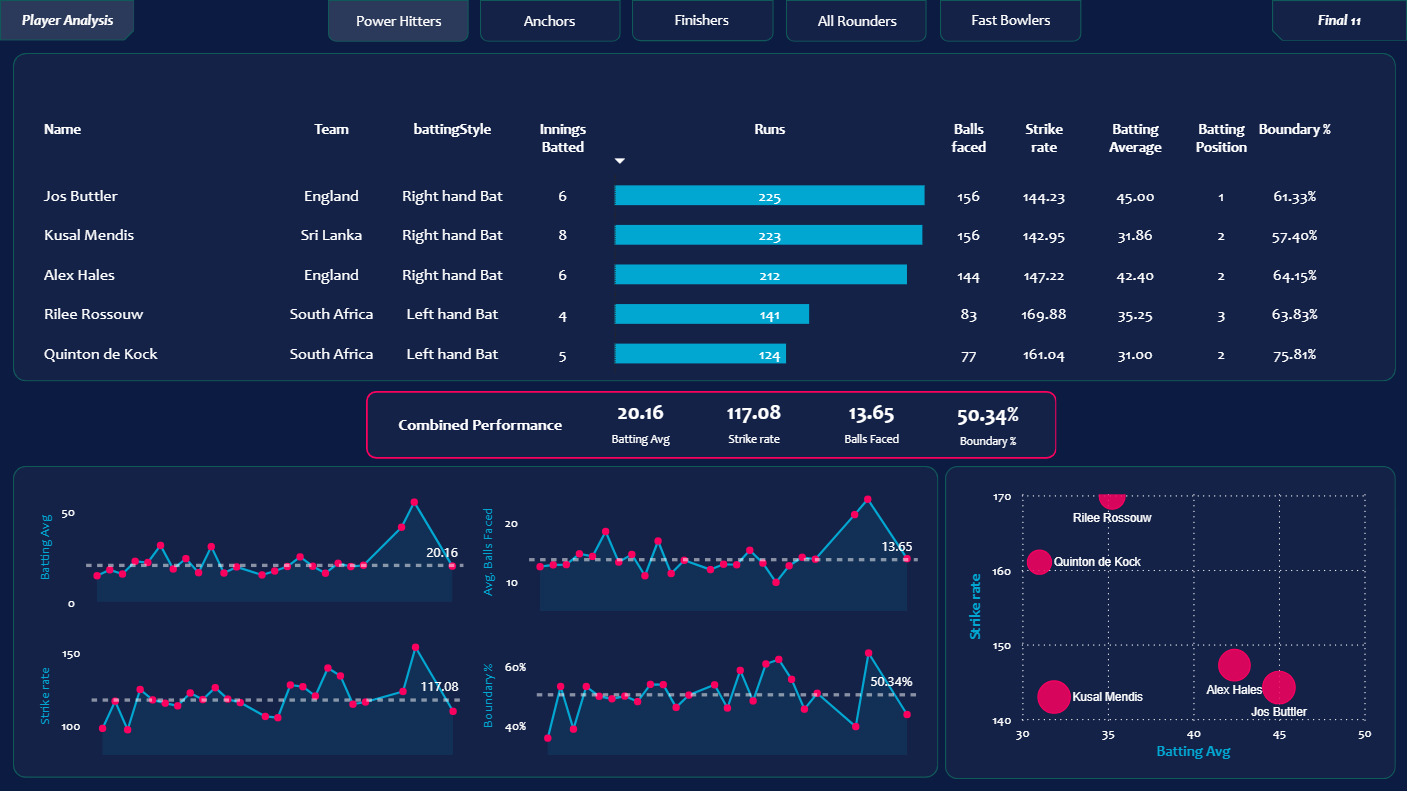

The page's visual inventory and layout, read from the dashboard file:
{"tool":"powerbi","page":{"name":"Power Hitters / Openers","canvas":[1280,720],"ordinal":0},"visuals":[{"type":"tableEx","fields":{"Values":["dim_players.name","dim_players.team","dim_players.battingStyle","Key_Measures.Total Innings Batted","Key_Measures.Total Runs","Key_Measures.Total balls Faced","Key_Measures.Strike Rate","Key_Measures.Batting Avg","Key_Measures.Batting Position","Key_Measures.Boundary %"]},"box":[19.7,60.6,1240.9,166.7],"z":0},{"type":"scatterChart","fields":{"Category":["dim_players.name"],"Size":["Key_Measures.Total Runs"],"X":["Key_Measures.Batting Avg"],"Y":["Key_Measures.Strike Rate"],"Series":["dim_players.name"]},"box":[33.3,321.7,698.3,360],"z":1000},{"type":"textbox","box":[56.1,263.6,325.8,28.8],"z":2000},{"type":"textbox","box":[20,13.3,325,30],"z":3000},{"type":"card","fields":{"Values":["Key_Measures.Batting Avg"]},"box":[756.7,321.7,226.7,136.7],"z":4000},{"type":"card","fields":{"Values":["Key_Measures.Strike Rate"]},"box":[1016.7,321.7,226.7,136.7],"z":5000},{"type":"card","fields":{"Values":["Key_Measures.Average Balls Faced"]},"box":[1016.7,501.7,226.7,136.7],"z":6000},{"type":"card","fields":{"Values":["Key_Measures.Boundary %"]},"box":[776.7,510,186.7,128.3],"z":7000},{"type":"textbox","box":[776.7,291.7,325,30],"z":8000},{"type":"slicer","fields":{"Values":["dim_match_summary.Stage"]},"box":[1127.5,98.8,133.8,88.8],"z":9000}]}

Visuals, with their boxes in screenshot pixels (x1, y1, x2, y2), scaled from the page's 1280x720 canvas onto the 1407x791 screenshot:
tableEx - dim_players.name x dim_players.team: (22, 67, 1386, 250)
scatterChart - dim_players.name x Key_Measures.Total Runs: (37, 353, 804, 749)
textbox: (62, 290, 420, 321)
textbox: (22, 15, 379, 48)
card - Key_Measures.Batting Avg: (832, 353, 1081, 504)
card - Key_Measures.Strike Rate: (1118, 353, 1367, 504)
card - Key_Measures.Average Balls Faced: (1118, 551, 1367, 701)
card - Key_Measures.Boundary %: (854, 560, 1059, 701)
textbox: (854, 320, 1211, 353)
slicer - dim_match_summary.Stage: (1239, 109, 1386, 206)
